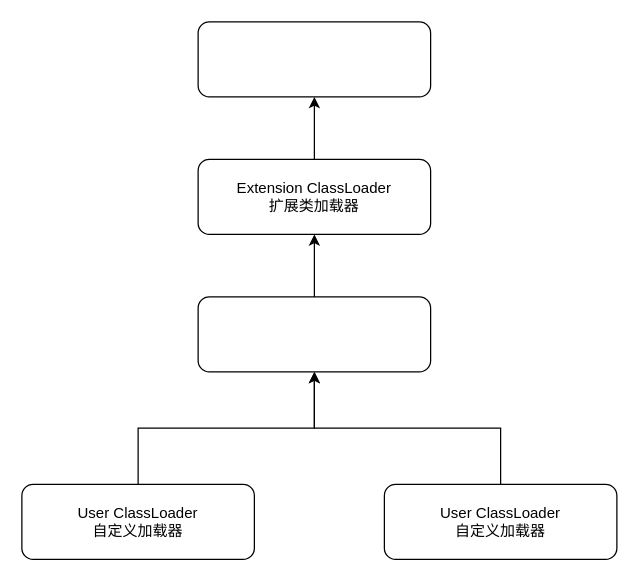
Image size: 639x581. Some labels were removed from this diagram. Each missing label, with the box of its shape:
Application ClassLoader 应用程序加载器: (197, 296, 431, 372)
Bootstrap ClassLoader 启动类加载器: (197, 21, 431, 97)
